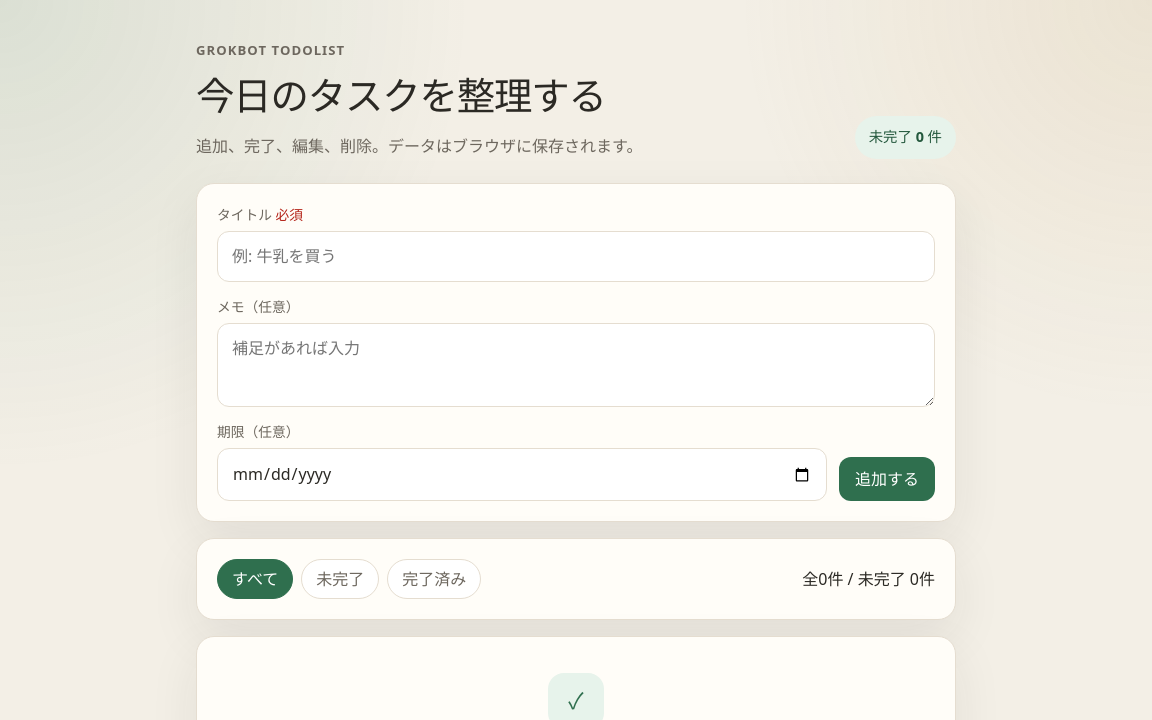
App › adds a todo to the list
The width and height of the screenshot is (1152, 720).
Type "牛乳を買う" into the field labelled "タイトル 必須". click: [576, 256]
box: [217, 231, 935, 282]
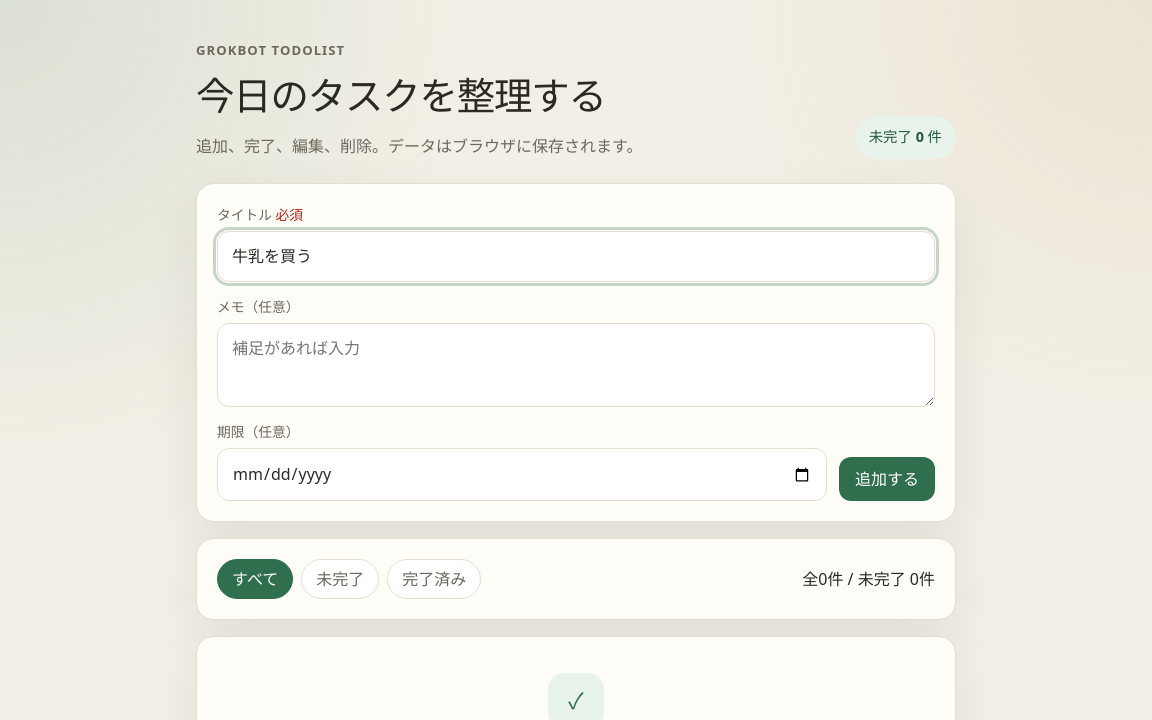
Type "低脂肪" into the text box labelled "メモ（任意）". click: [576, 365]
box: [217, 323, 935, 407]
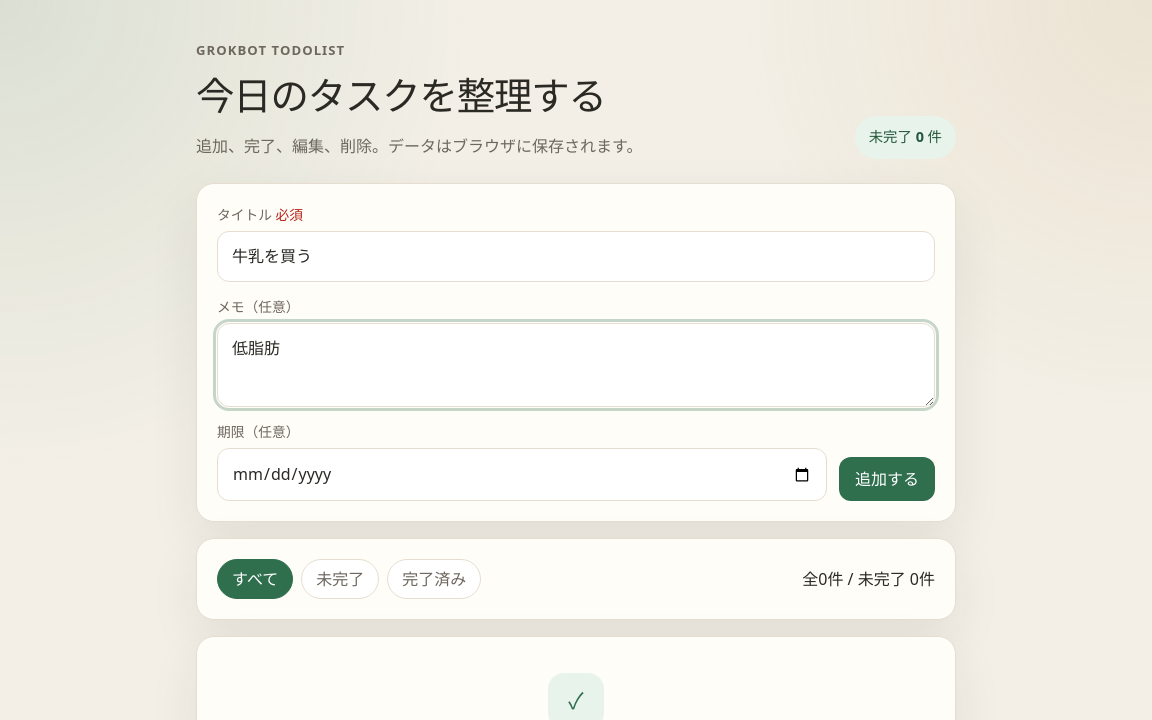
Click the button "追加する". click: [887, 479]
box: [839, 457, 935, 501]
(page scrolled)
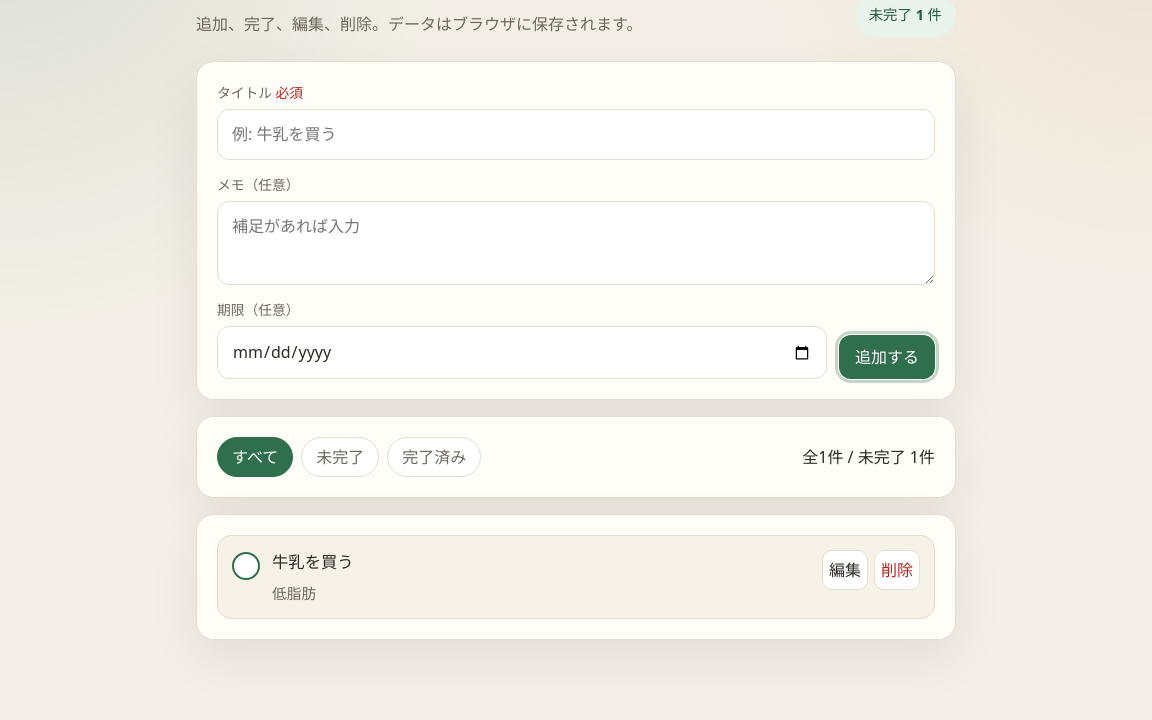
Expected: the heading "牛乳を買う" is shown, [272, 551, 354, 573]
Expected: the text "低脂肪" is shown, [272, 582, 316, 602]
